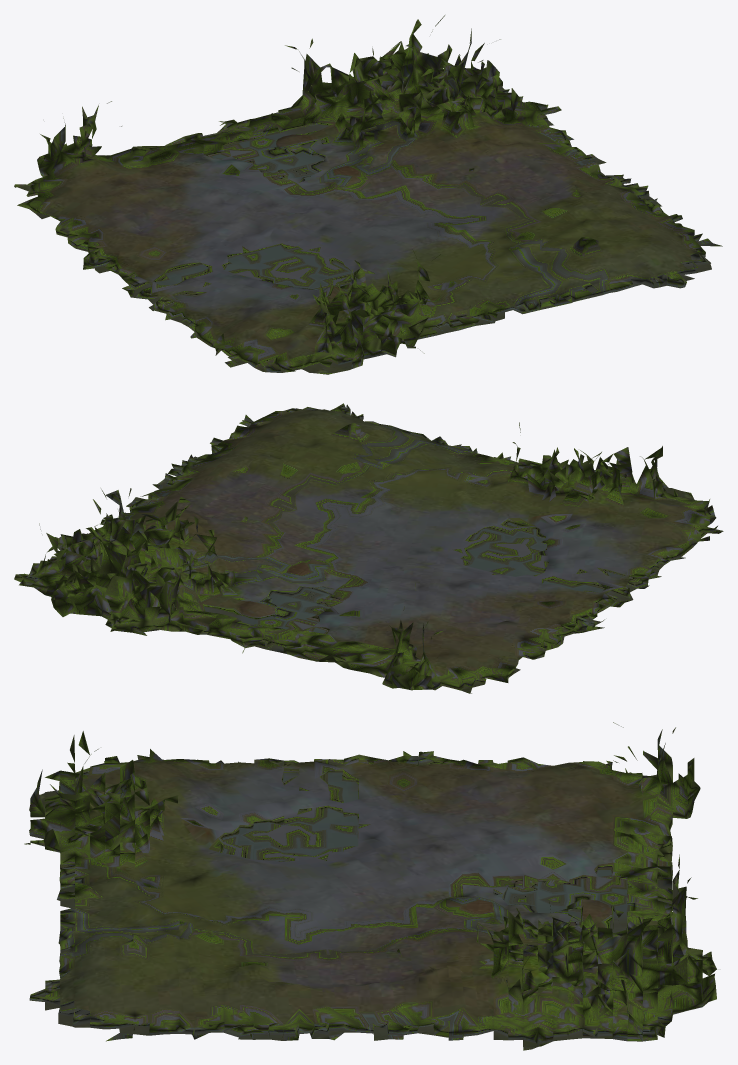
Rendered from restos.glb.
3 renders of one model, top to bottom at view 1: azimuth 30°, elevation 25°; view 2: azimuth 150°, elevation 25°; view 3: azimuth 270°, elevation 25°, orthographic. The views are drawn at different scales.
Size of the model in its own units: 1.85 by 0.2964 by 1.87.
1 material, 1 textured.
